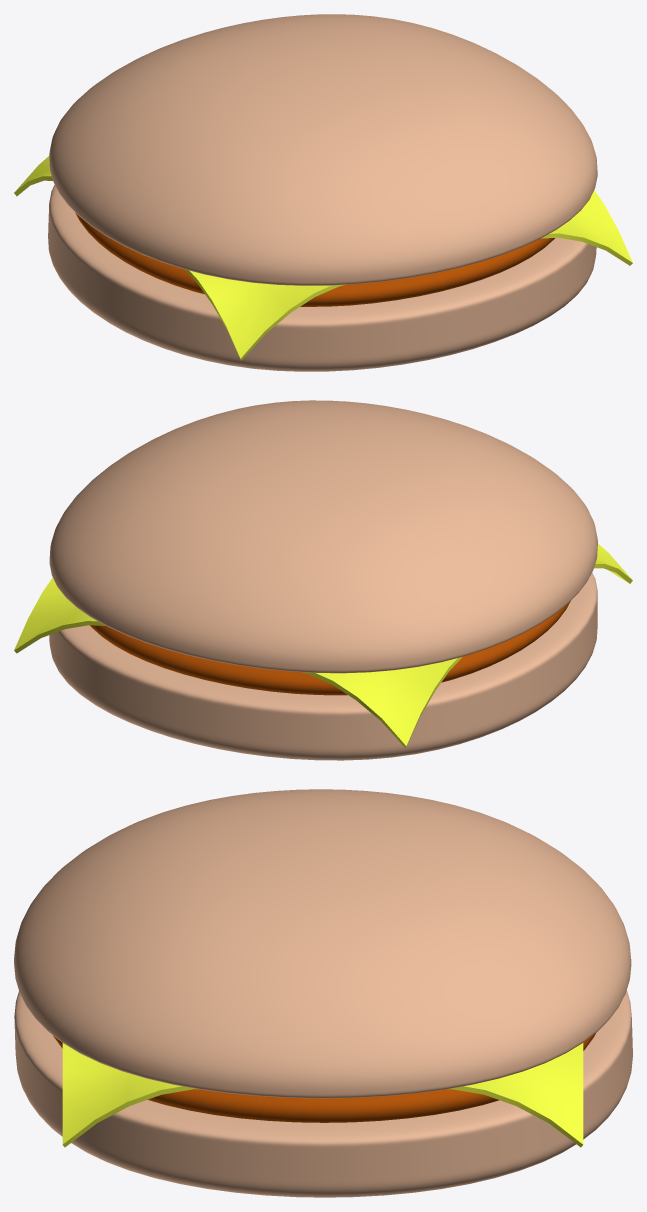
Rendered from hamburger.glb.
3 renders of one model, top to bottom at view 1: azimuth 30°, elevation 25°; view 2: azimuth 150°, elevation 25°; view 3: azimuth 270°, elevation 25°, orthographic. The views are drawn at different scales.
Visible parts, largest first — view 1: Cube.002, Cube, Plane, Cube.001; view 2: Cube.002, Cube, Plane, Cube.001; view 3: Cube.002, Cube, Plane, Cube.001.
Boxes of the visible parts, x1=… form: Cube.002: x1=49, y1=14, x2=597, y2=285; Cube: x1=48, y1=185, x2=596, y2=371; Plane: x1=14, y1=156, x2=632, y2=360; Cube.001: x1=75, y1=213, x2=554, y2=306; Cube.002: x1=49, y1=400, x2=597, y2=673; Cube: x1=49, y1=572, x2=597, y2=760; Plane: x1=14, y1=544, x2=632, y2=747; Cube.001: x1=90, y1=601, x2=570, y2=695; Cube.002: x1=14, y1=789, x2=631, y2=1098; Cube: x1=14, y1=990, x2=632, y2=1197; Plane: x1=62, y1=1043, x2=583, y2=1147; Cube.001: x1=53, y1=1033, x2=595, y2=1122.
Bounding box in the file's own units: 9.18 × 4.09 × 9.19.
